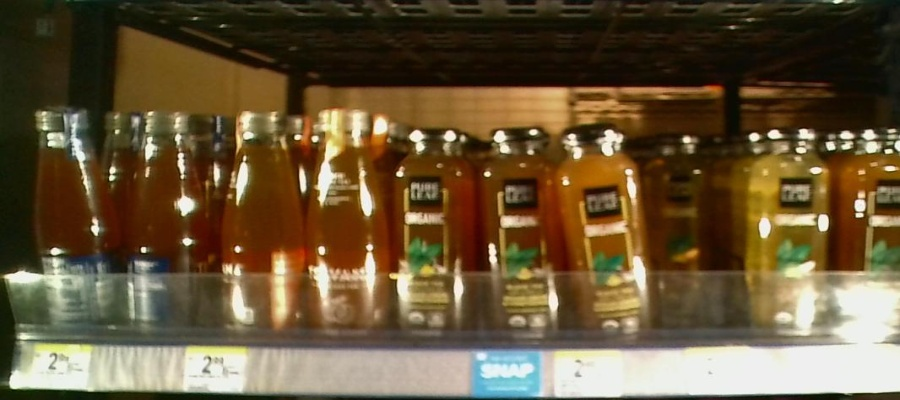bottle: (122, 102, 213, 349), (29, 100, 119, 342), (218, 106, 303, 351), (561, 122, 650, 347), (309, 103, 390, 347), (747, 128, 833, 344), (393, 121, 474, 343), (480, 121, 558, 344), (652, 127, 718, 332), (842, 121, 900, 340)
